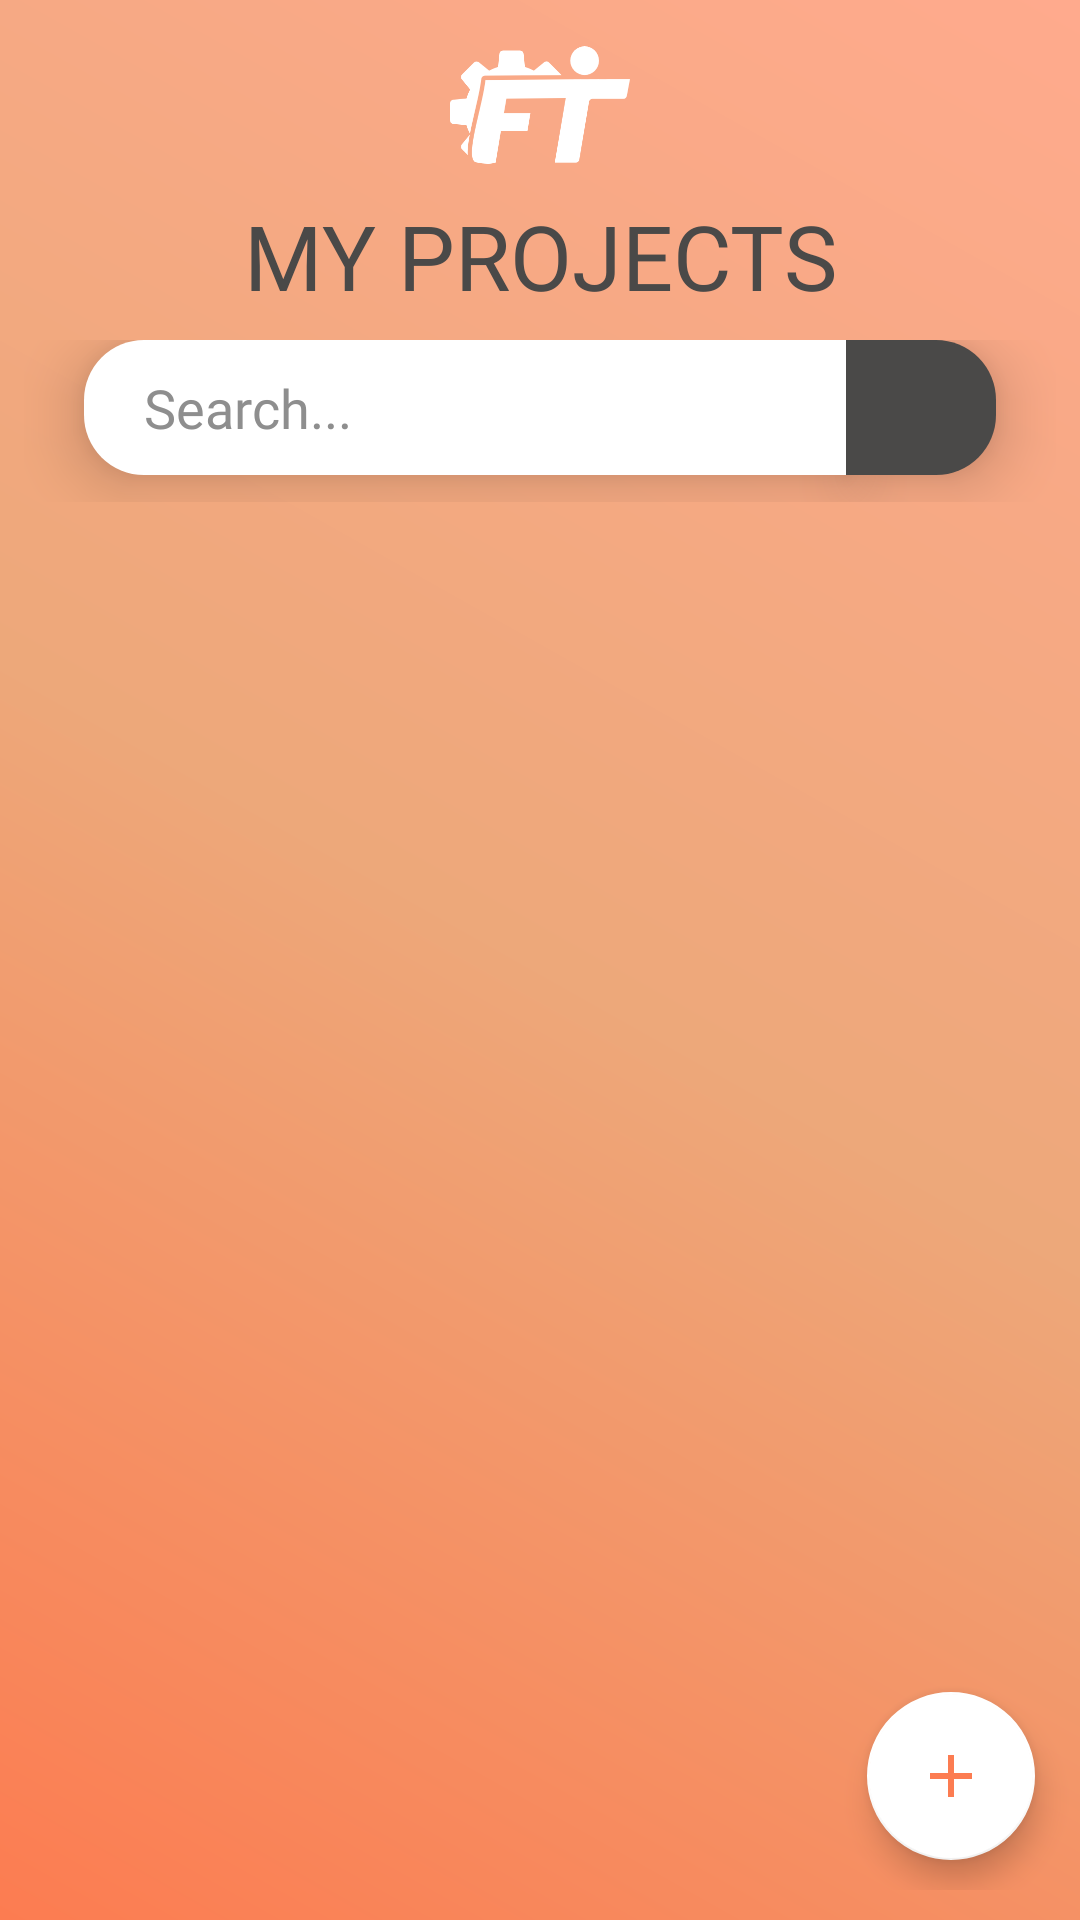

Named icons in this screenshot (1080*1920) and their bounding boxes, (x1, y1, x2, y2):
add: (867, 1692, 1035, 1860)
